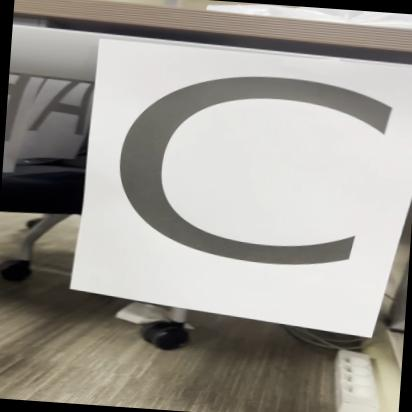seat: (96, 39, 398, 336)
